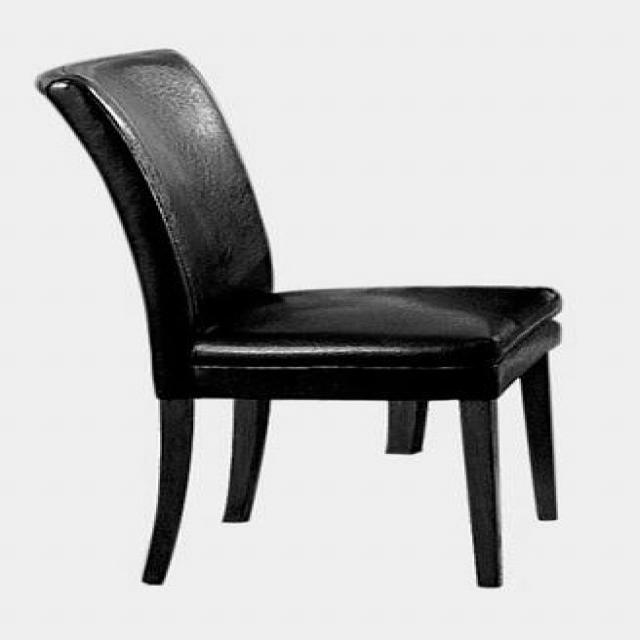chair: (29, 46, 566, 586)
